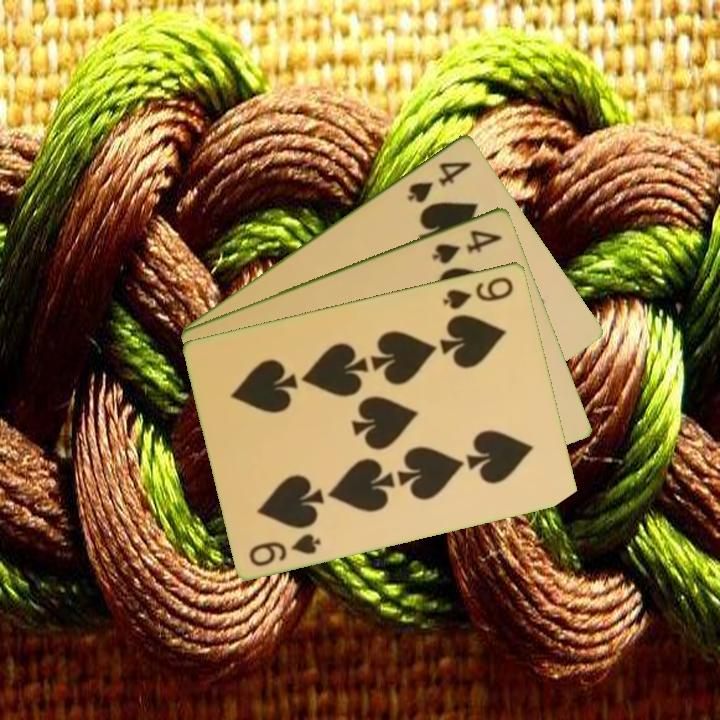4s: (403, 157, 475, 206), (428, 225, 505, 267)
9s: (245, 529, 324, 569), (439, 272, 517, 312)
